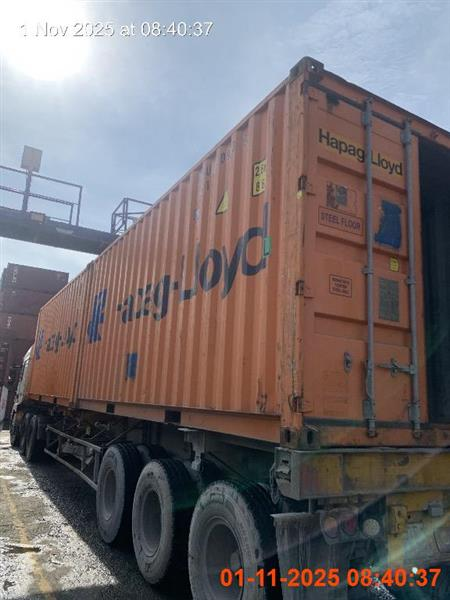broken: (8, 57, 448, 599)
